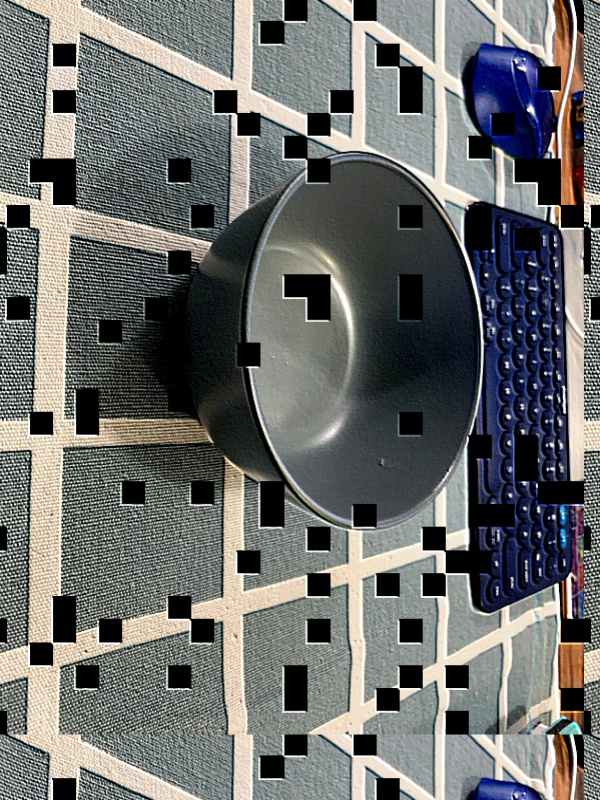bowl_big: (174, 143, 486, 537)
